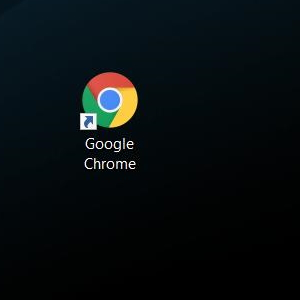chrome: (79, 72, 138, 131)
